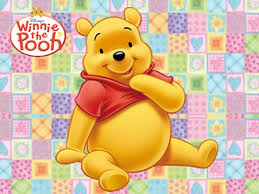Winnie: (70, 6, 167, 110)
